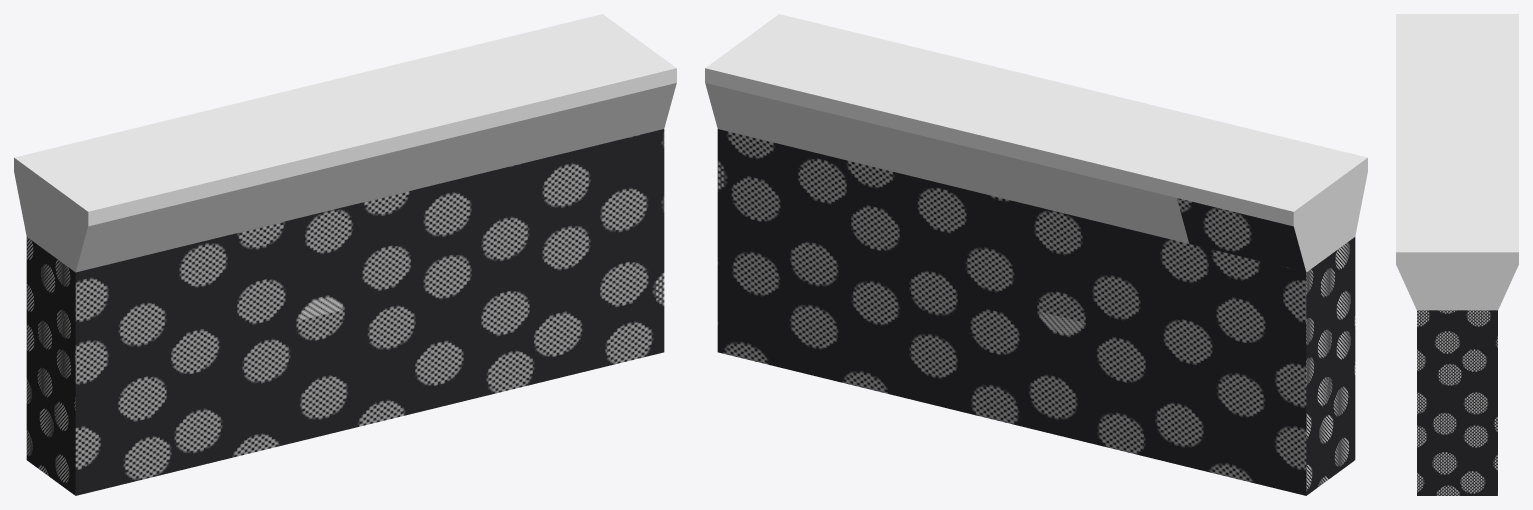
The model's file is kwalltop.fbx.
3 renders of one model, left to right at view 1: azimuth 30°, elevation 25°; view 2: azimuth 150°, elevation 25°; view 3: azimuth 270°, elevation 25°, orthographic. The views are drawn at different scales.
Visible parts, largest first — view 1: polySurface234; view 2: polySurface234; view 3: polySurface234.
Boxes of the visible parts, x1,y1,x2,y2 form: polySurface234: (14,14,676,495); polySurface234: (705,14,1367,495); polySurface234: (1396,14,1518,495).
Size of the model in its own units: 3.42 by 1.63 by 0.7448.
Materials: 1 (1 with a texture image).
